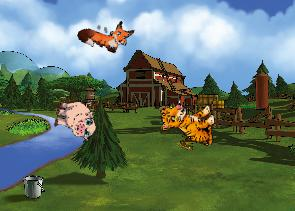fox: (75, 8, 136, 59)
pig: (51, 96, 99, 141)
tiger: (159, 99, 218, 150)
